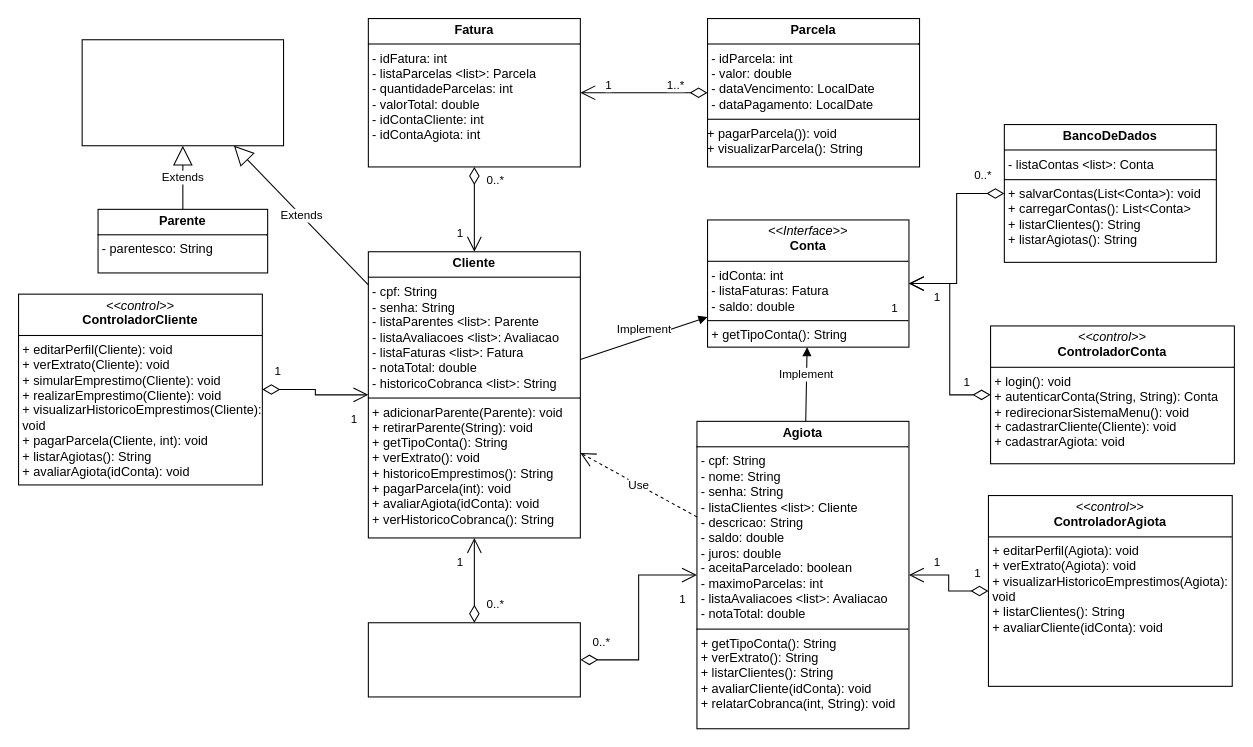
The diagram is 1253 pixels wide and 747 high, and some of its shapes have lost their labels. The centre of each missing label's shape, as x and y in pixels:
<<abstract>> Pessoa - nome: String - endereco: String - telefone: String: the point at 182,92
Avaliacao - descricao: String - nota: int: the point at 473,659
